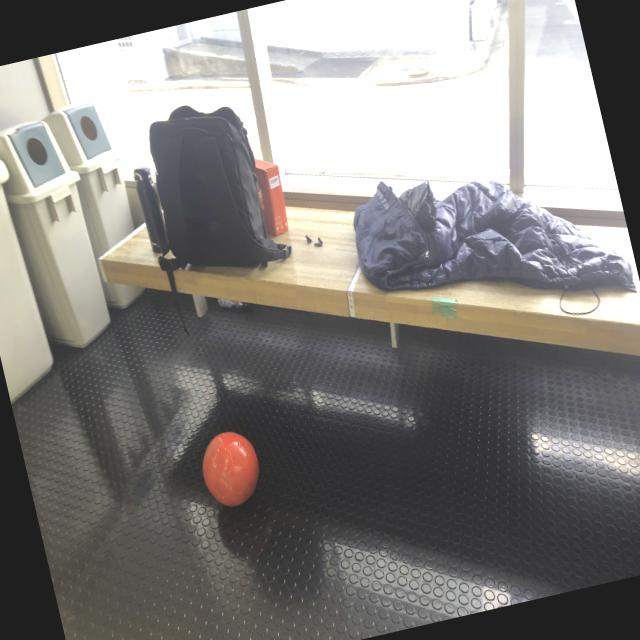red_ball: (194, 426, 264, 510)
